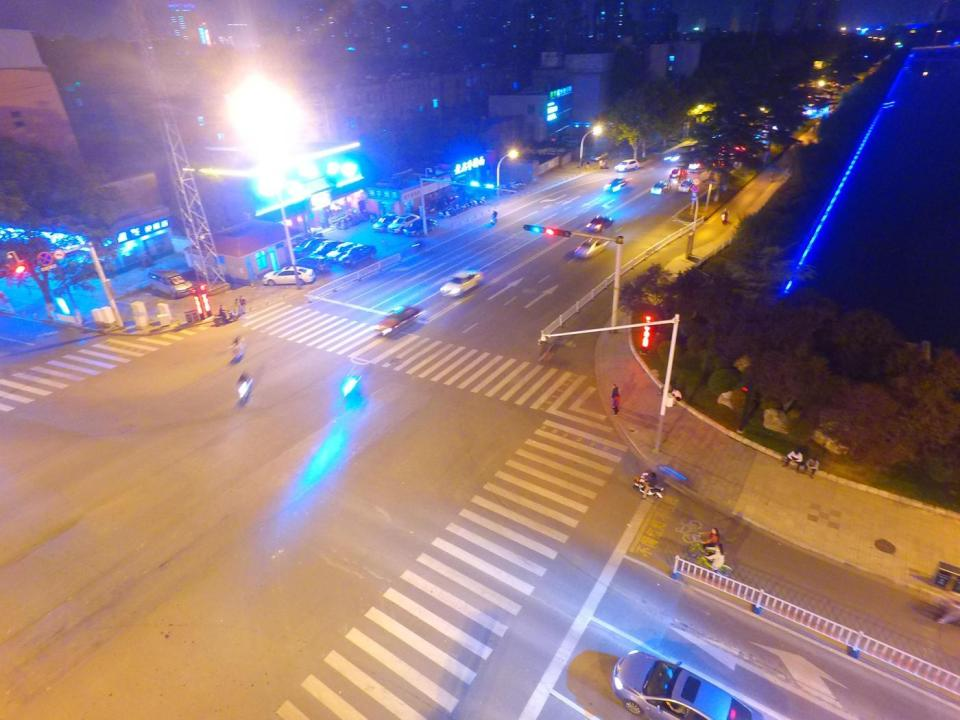car: (610, 650, 772, 720), (374, 305, 422, 338), (440, 268, 482, 297), (262, 266, 319, 285), (339, 244, 377, 268), (573, 237, 610, 259), (662, 145, 703, 164), (292, 256, 330, 275), (326, 240, 362, 260), (309, 240, 344, 260), (292, 237, 327, 257), (585, 214, 614, 234), (387, 214, 416, 234), (402, 218, 434, 234), (372, 213, 397, 232), (603, 177, 629, 193), (614, 158, 641, 172), (651, 180, 672, 195), (678, 179, 695, 192), (669, 168, 687, 180), (590, 150, 608, 161)
van: (146, 268, 194, 298)
